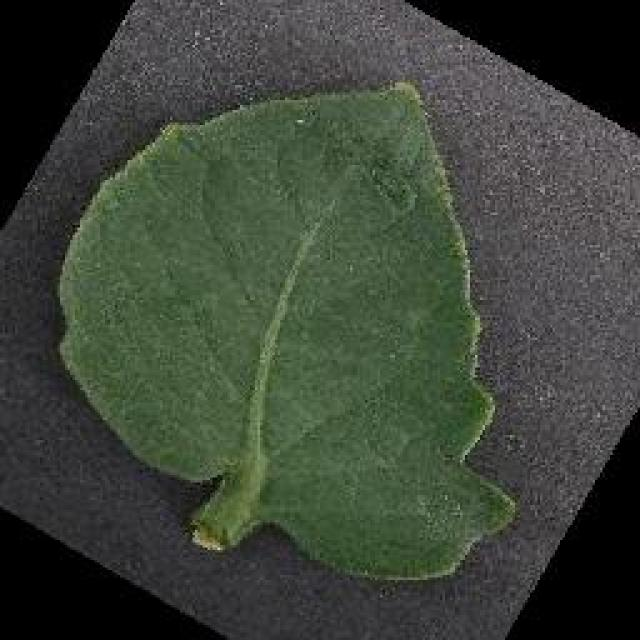Tomato___healthy: (53, 77, 520, 575)
